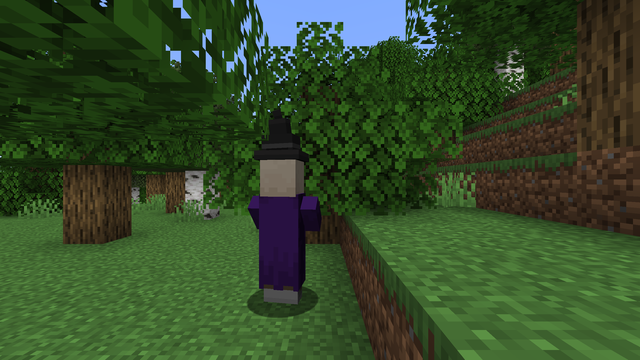sorcieres: (255, 153, 305, 309)
